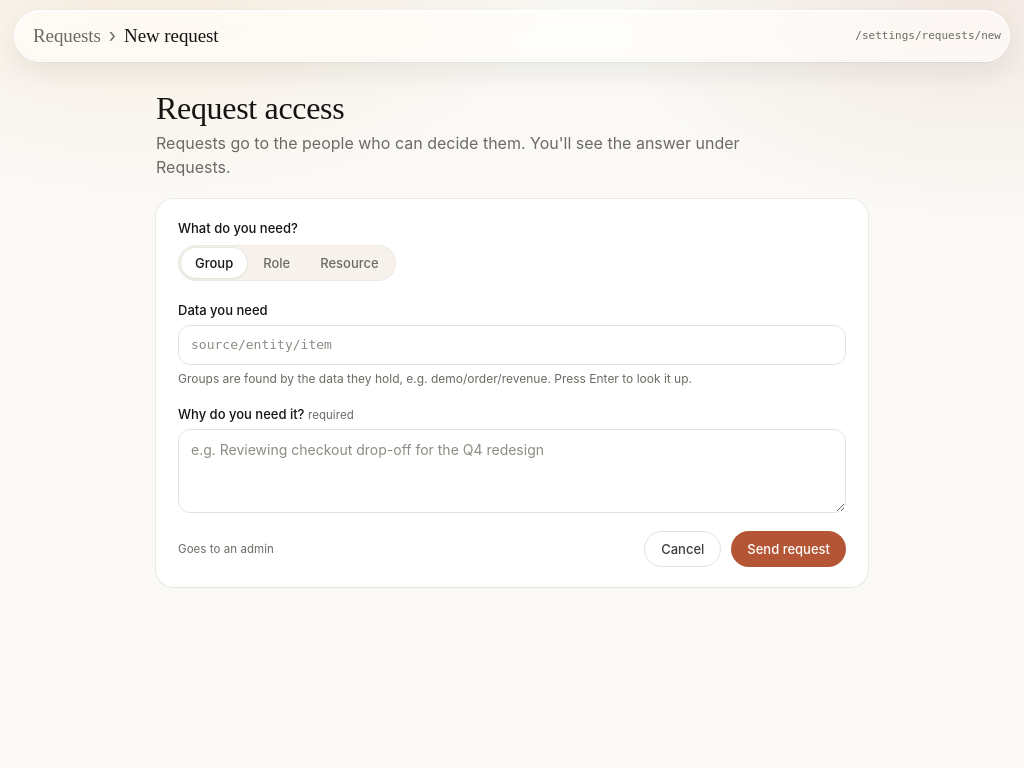
Scenario: NewRequestPage / RequestForm › the group kind finds groups by the data they hold
The width and height of the screenshot is (1024, 768).
Type "demo/*" into the field labelled "Data you need" at (512,345), box [178, 325, 846, 365]
Then press Enter
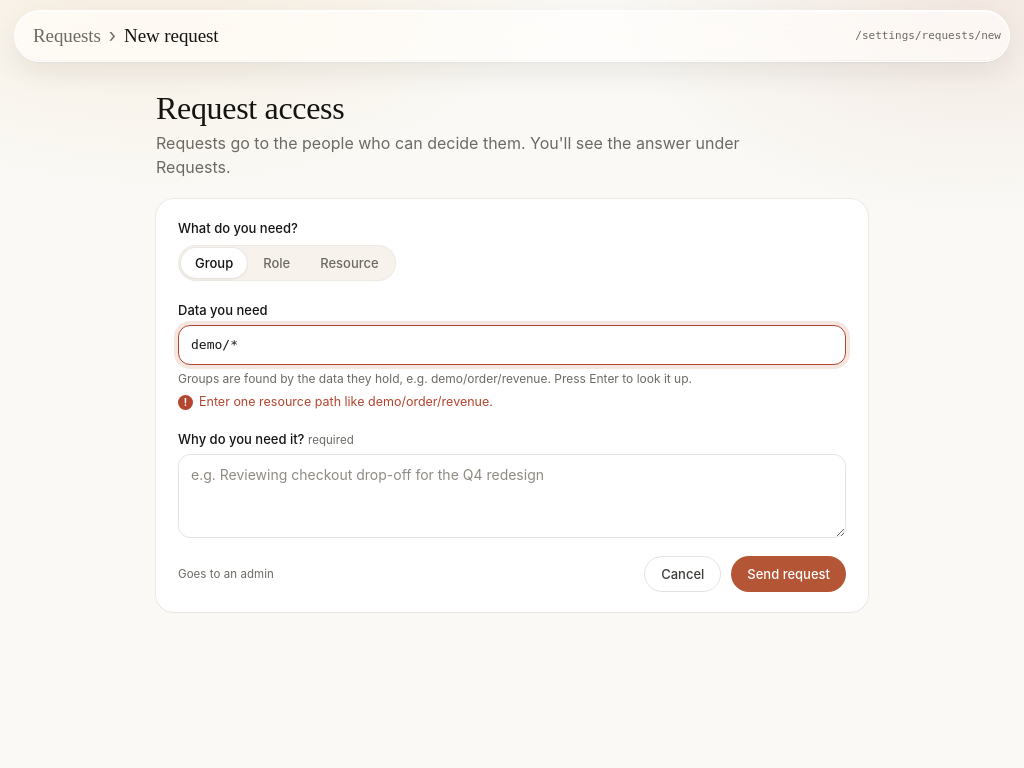
Now the text "Enter one resource path like demo/order/revenue." is shown, box [199, 394, 493, 409]
Replace the text in the field labelled "Data you need" with "demo/order" at (512,345), box [178, 325, 846, 365]
Then press Enter
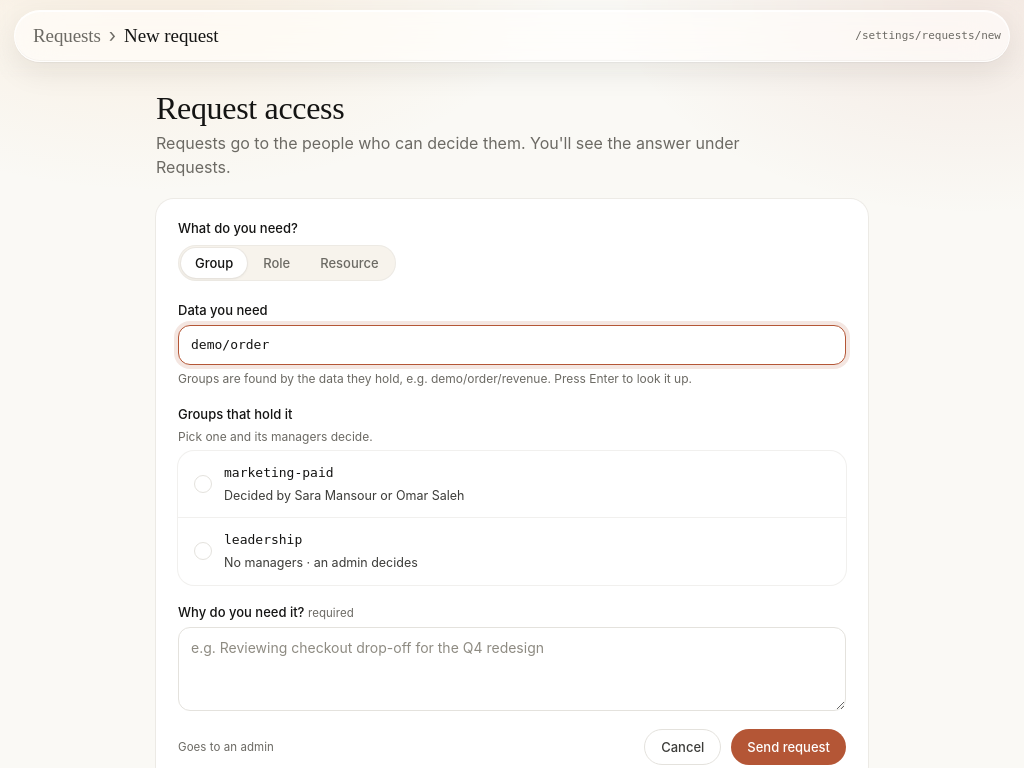
Now the element named "Groups that hold it" is shown, box [178, 451, 846, 584]
